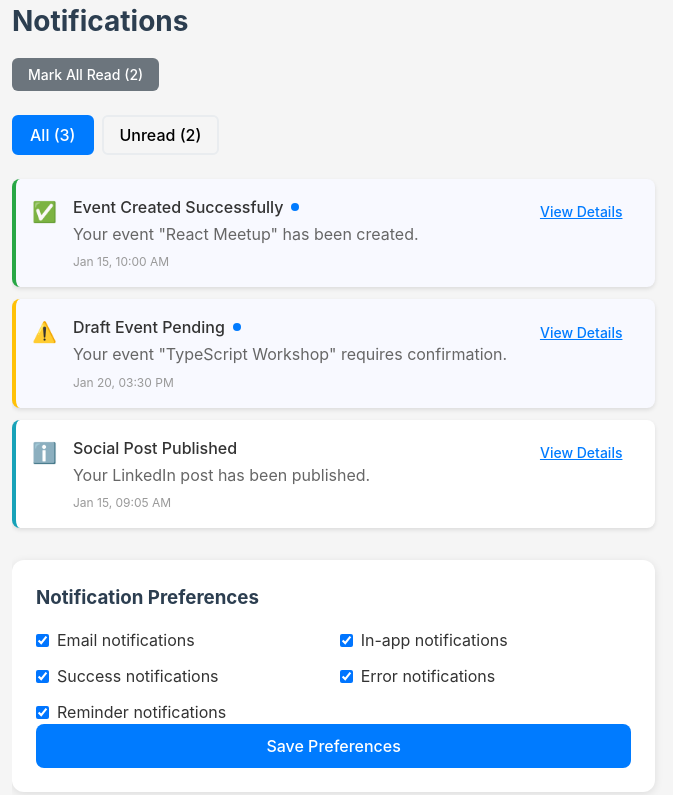
Scenario: NotificationCenter Component › handles mark as read API error gracefully
Expected: the text "Event Created Successfully" is shown, left=73, top=197, right=300, bottom=217
What coordinates should you click on to do the following:
click the text "Event Created Successfully"
I would click on:
 (334, 233)
Its box is left=12, top=179, right=655, bottom=287.
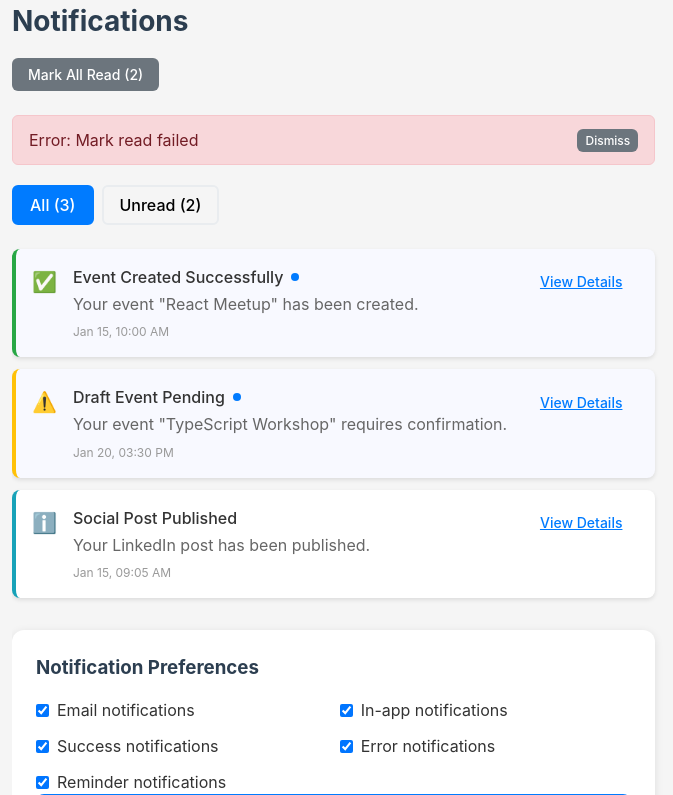
Now the text "Error: Mark read failed" is shown, box left=29, top=130, right=198, bottom=150
